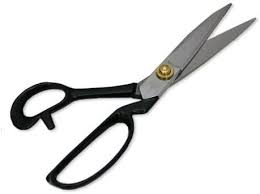tihiras: (6, 2, 260, 191)
